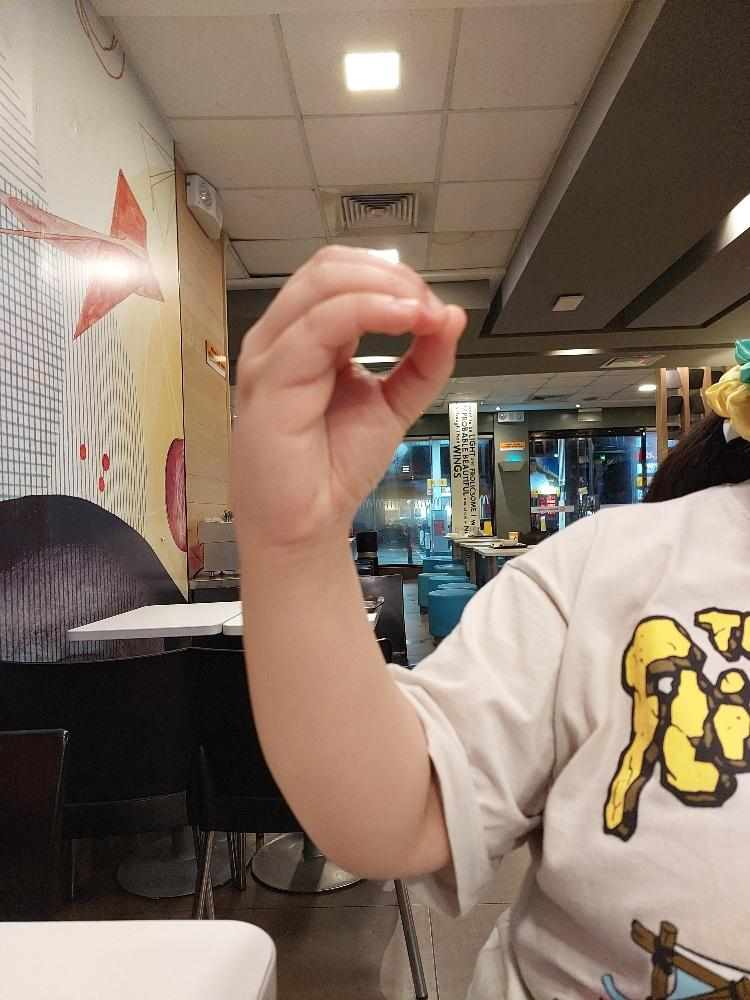o: (225, 240, 468, 547)
